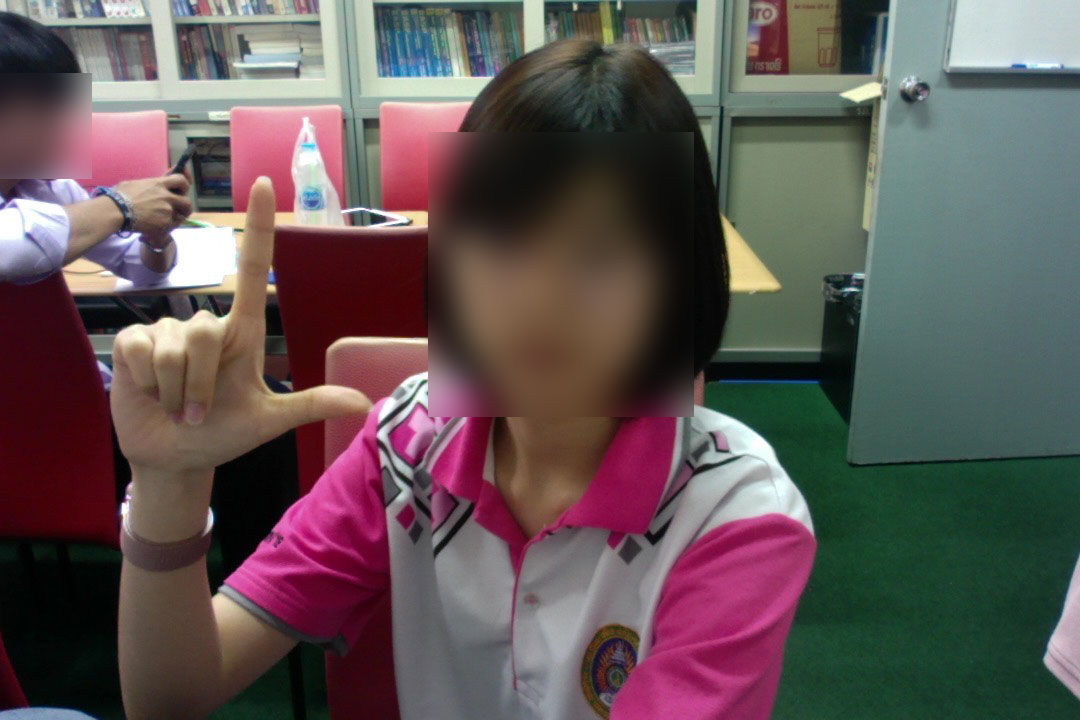lor: (102, 171, 387, 524)
